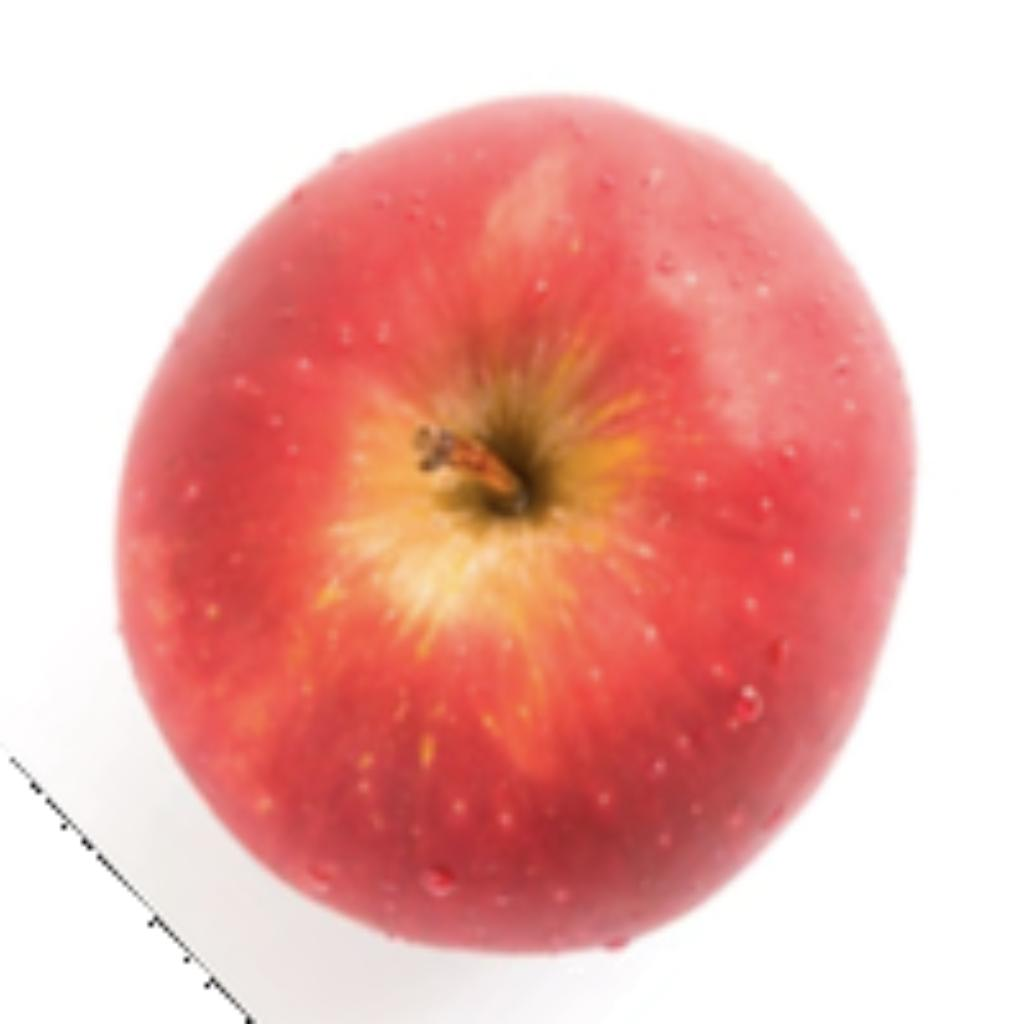apple: (102, 82, 922, 968)
